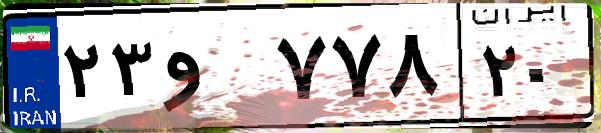0: (525, 38, 570, 115)
2: (57, 26, 110, 100), (475, 38, 525, 113)
3: (110, 28, 158, 98)
7: (270, 28, 330, 110), (330, 28, 385, 110)
8: (385, 28, 445, 110)
و: (158, 20, 270, 120)
